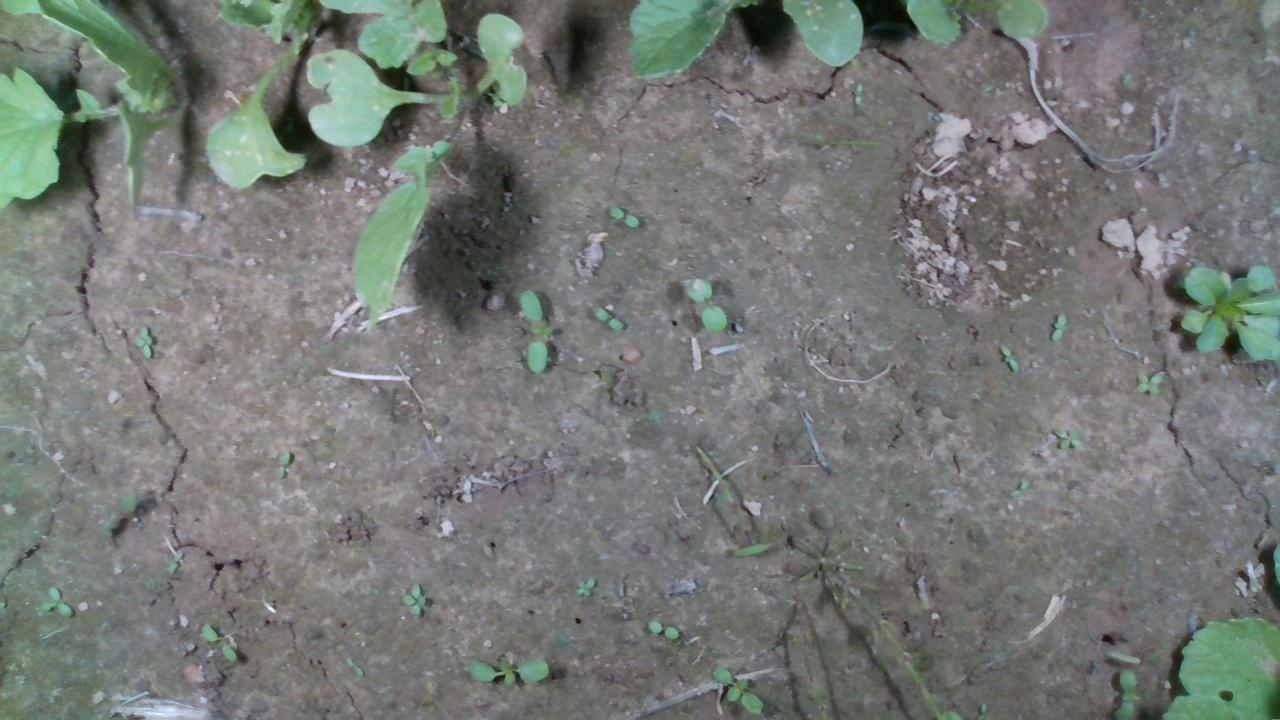weed: (516, 286, 552, 374), (711, 662, 765, 716), (681, 275, 728, 333), (464, 654, 549, 685), (197, 620, 240, 664), (34, 583, 75, 618), (398, 577, 428, 616), (586, 303, 626, 330), (130, 323, 155, 360), (644, 616, 681, 640), (1050, 424, 1081, 452), (605, 205, 641, 228), (995, 343, 1020, 374), (1132, 372, 1162, 395), (1048, 309, 1067, 342), (272, 449, 292, 479), (163, 549, 184, 576), (572, 576, 595, 596), (1007, 478, 1028, 498)
